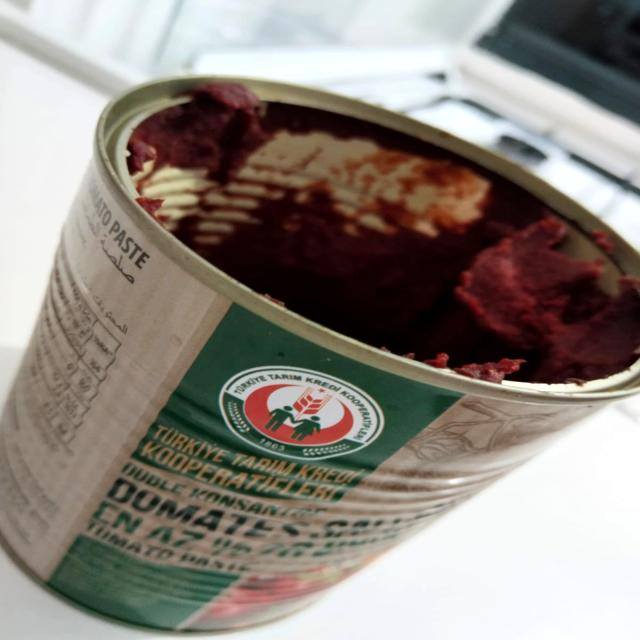tomato paste: (16, 66, 639, 640)
